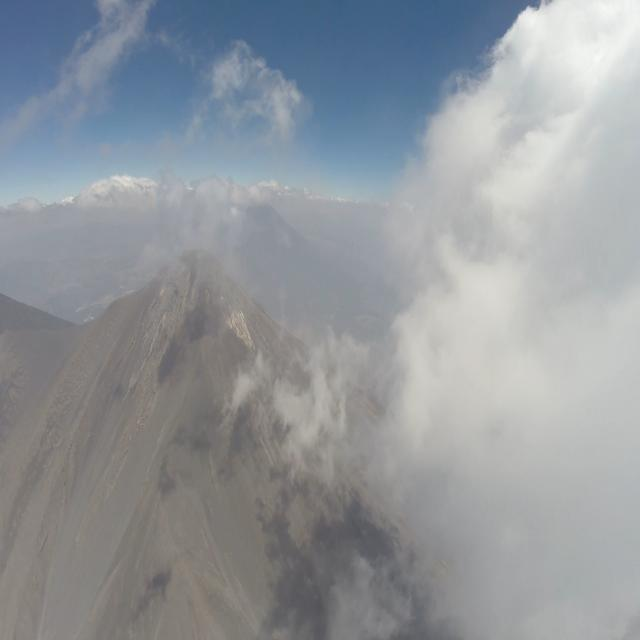Summit: (94, 240, 292, 380)
